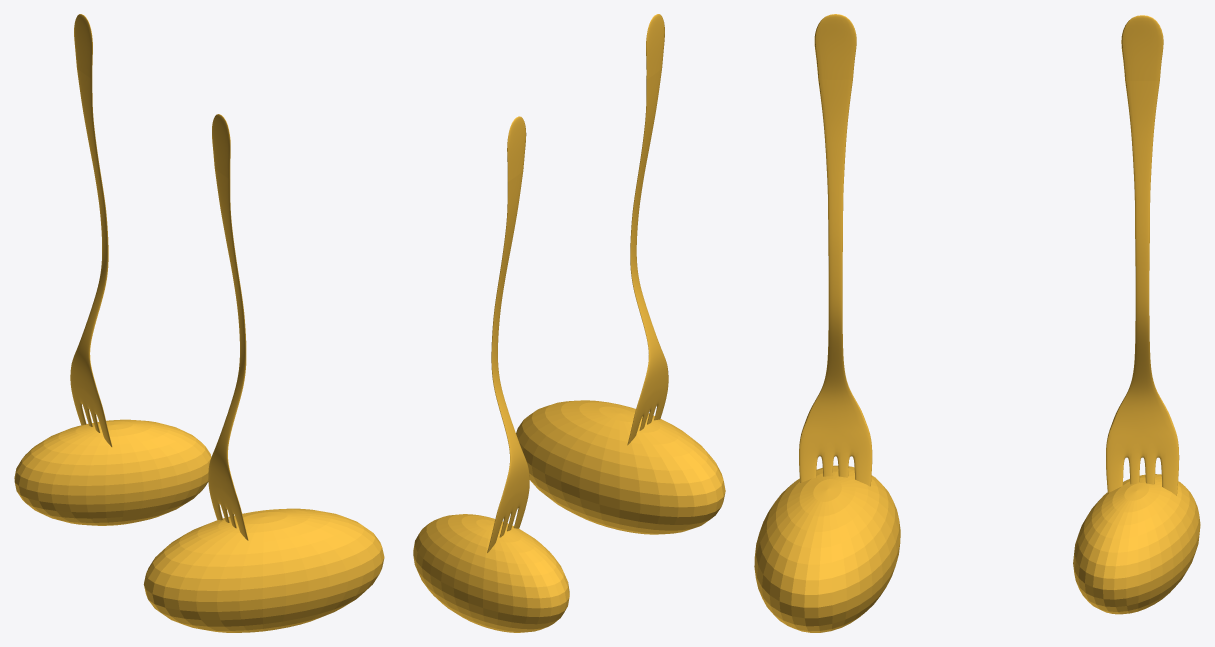
Rendered from potatoes.glb.
3 views of the same model, side by side, from view 1: azimuth 30°, elevation 25°; view 2: azimuth 150°, elevation 25°; view 3: azimuth 270°, elevation 25° (orthographic). The views are drawn at different scales.
Visible parts, largest first — view 1: Sphere, Sphere.001; view 2: Sphere, Sphere.001; view 3: Sphere, Sphere.001.
Part boxes in pixels (<box>): Sphere: <box>143,114,384,632</box>; Sphere.001: <box>14,14,211,525</box>; Sphere: <box>516,14,725,534</box>; Sphere.001: <box>413,116,569,632</box>; Sphere: <box>754,14,900,632</box>; Sphere.001: <box>1073,15,1200,614</box>.
Bounding box in the file's own units: 1.09 × 2.5 × 1.76.
